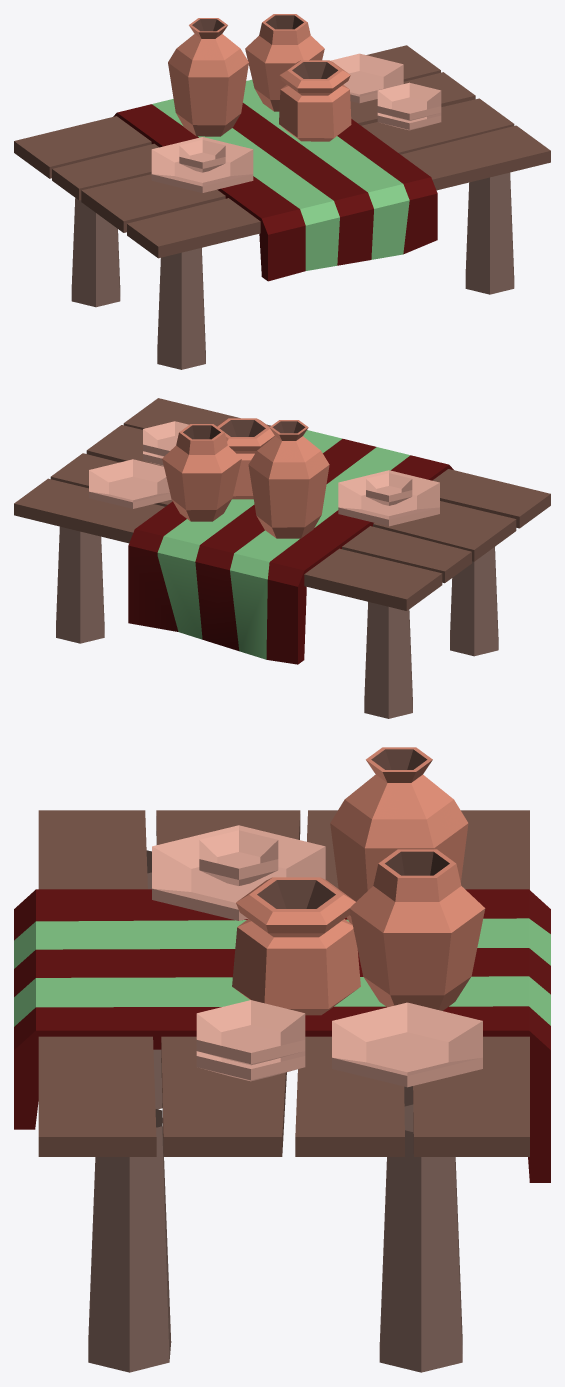
File: prop_062.fbx
3 views of the same model, one above another, from view 1: azimuth 30°, elevation 25°; view 2: azimuth 150°, elevation 25°; view 3: azimuth 270°, elevation 25° (orthographic). The views are drawn at different scales.
Visible parts, largest first — view 1: prop.062; view 2: prop.062; view 3: prop.062.
Part boxes in pixels (left/top/right/bottom): prop.062: left=14, top=14, right=550, bottom=369; prop.062: left=14, top=398, right=550, bottom=718; prop.062: left=14, top=747, right=550, bottom=1372.
Bounding box in the file's own units: 480 × 291 × 334.
Materials: 1 (1 with a texture image).
